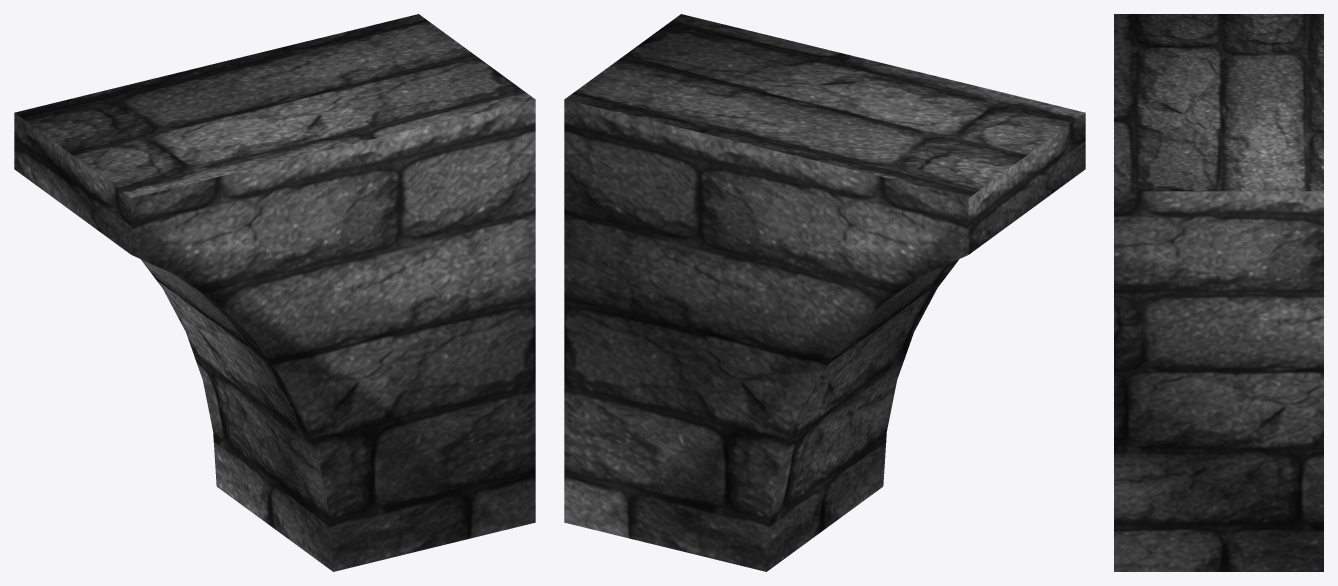
Rendered from stone slope.glb.
3 renders of one model, left to right at view 1: azimuth 30°, elevation 25°; view 2: azimuth 150°, elevation 25°; view 3: azimuth 270°, elevation 25°, orthographic. The views are drawn at different scales.
Parts seen in each view (by area): view 1: EQ Arch.001; view 2: EQ Arch.001; view 3: EQ Arch.001.
Boxes of the visible parts, box(x1,y1,x2,y2) form: EQ Arch.001: box(14, 14, 535, 571); EQ Arch.001: box(564, 14, 1085, 571); EQ Arch.001: box(1114, 14, 1323, 571).
Size of the model in its own units: 0.9144 by 0.9144 by 0.4572.
Materials: 1 (1 with a texture image).
